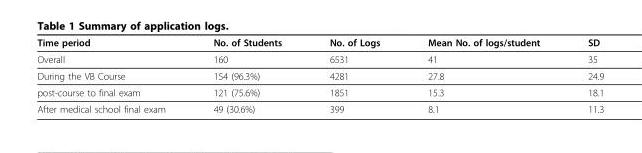table: (36, 36, 603, 114)
table column: (403, 36, 563, 114), (36, 36, 188, 114), (188, 36, 304, 114), (304, 36, 403, 114), (563, 36, 603, 114)
table column header: (36, 36, 603, 50)
table row: (36, 50, 603, 67), (36, 83, 603, 100), (36, 67, 603, 83), (36, 36, 603, 50), (36, 100, 603, 114)
